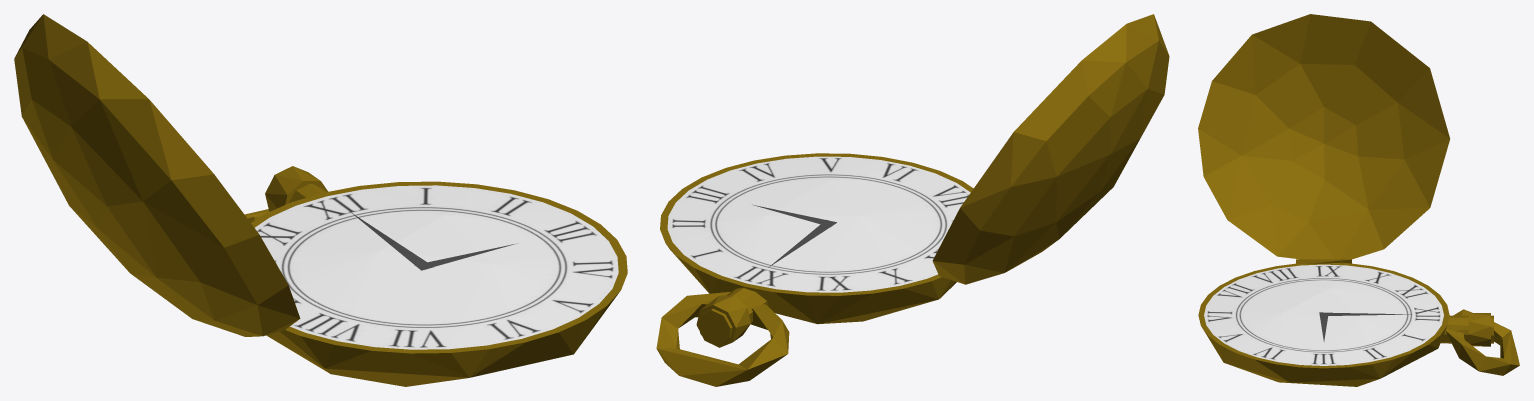
The model's file is Clock.glb.
3 renders of one model, left to right at view 1: azimuth 30°, elevation 25°; view 2: azimuth 150°, elevation 25°; view 3: azimuth 270°, elevation 25°, orthographic. The views are drawn at different scales.
Parts seen in each view (by area): view 1: Bow; view 2: Bow; view 3: Bow.
Part boxes in pixels (x1=…): Bow: x1=14, y1=14, x2=627, y2=386; Bow: x1=656, y1=14, x2=1169, y2=386; Bow: x1=1198, y1=14, x2=1519, y2=386.
Bounding box in the file's own units: 0.0695 × 0.0487 × 0.0577.
4 materials, 1 textured.
